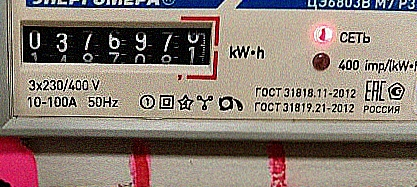0: (27, 28, 41, 50)
1: (185, 44, 197, 64)
3: (54, 30, 69, 52)
6: (106, 26, 121, 49)
7: (79, 27, 94, 50), (160, 29, 174, 52)
9: (132, 28, 147, 51)
screen: (11, 10, 222, 84)
